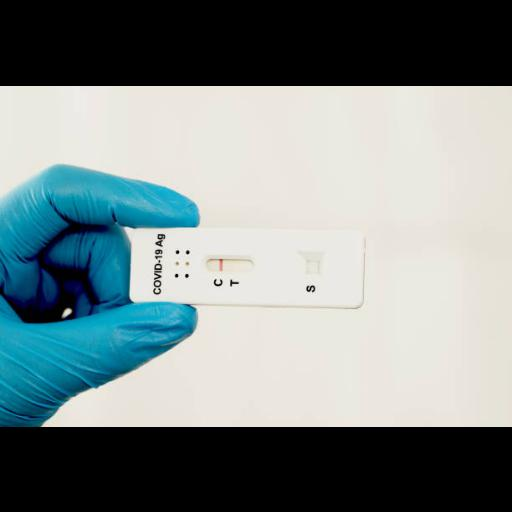Neg: (134, 228, 364, 306)
